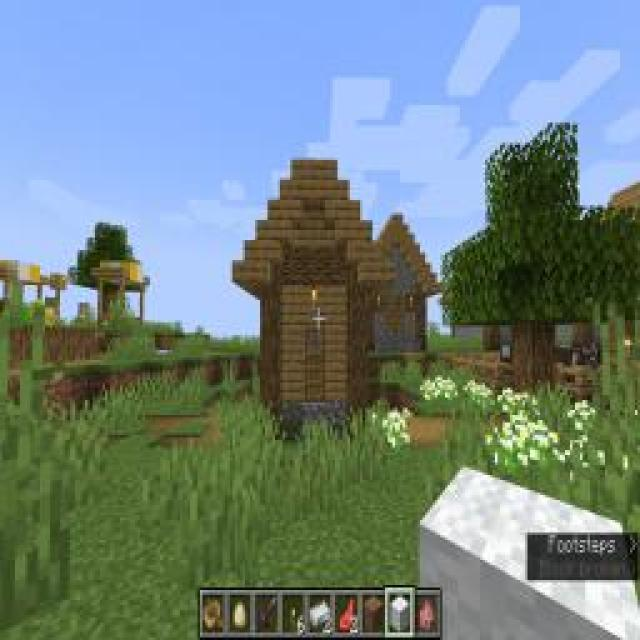Villager: (230, 154, 392, 441), (370, 210, 440, 360)
